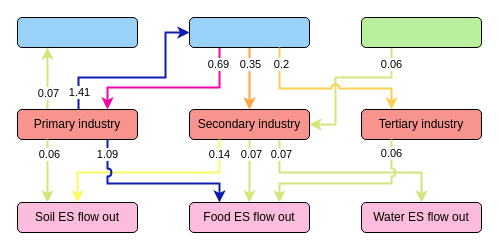
Some shapes in this 499 by 250 pixel diagram are drawn without their labels. Each missing label, with the centre of its shape:
"Food ES flow in" belongs at (421,32).
"Food ES supply" belongs at (249,32).
"Water ES supply" belongs at (77,32).
